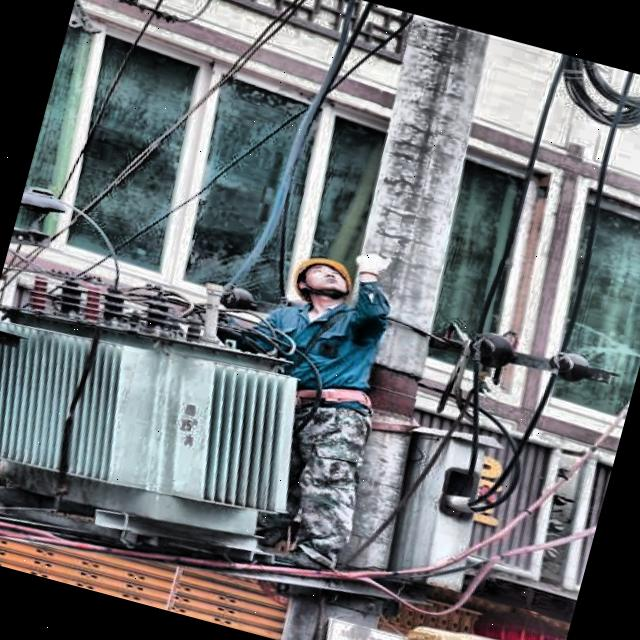helmet: (286, 244, 360, 314)
